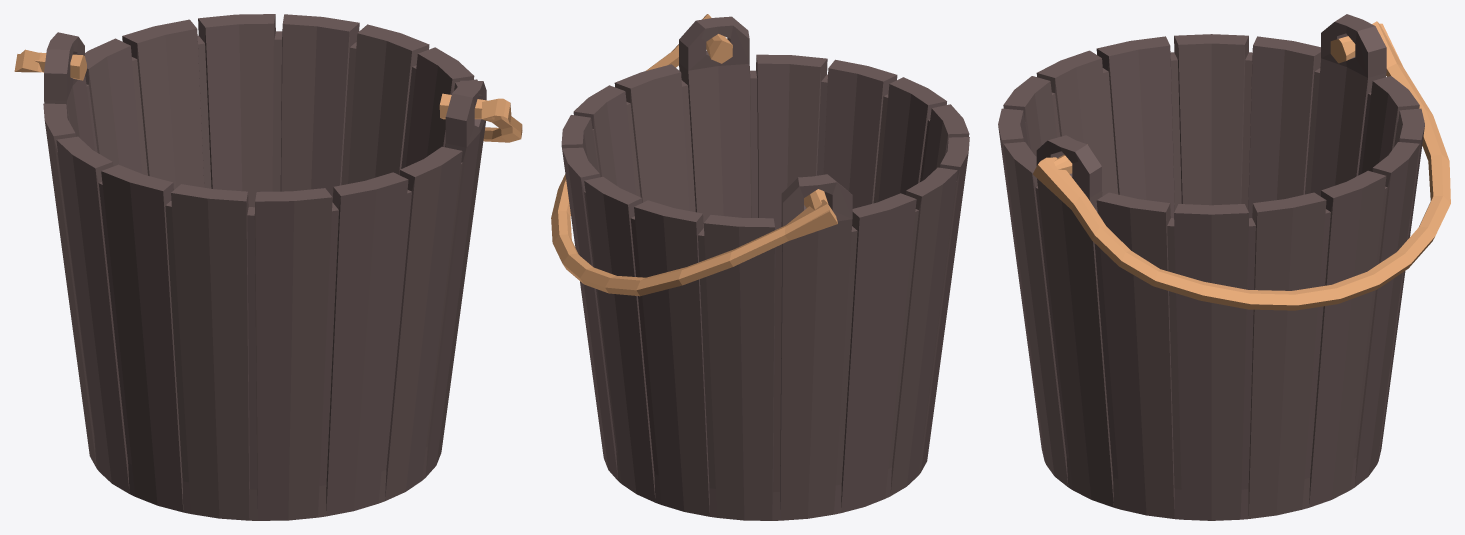
File: Bucket_2.fbx
3 renders of one model, left to right at view 1: azimuth 30°, elevation 25°; view 2: azimuth 150°, elevation 25°; view 3: azimuth 270°, elevation 25°, orthographic. The views are drawn at different scales.
Parts seen in each view (by area): view 1: Circle.004; view 2: Circle.004; view 3: Circle.004.
Part boxes in pixels (left/top/right/bottom): Circle.004: left=14, top=14, right=522, bottom=520; Circle.004: left=551, top=14, right=969, bottom=520; Circle.004: left=998, top=14, right=1450, bottom=520.
Size of the model in its own units: 346 by 308 by 346.
